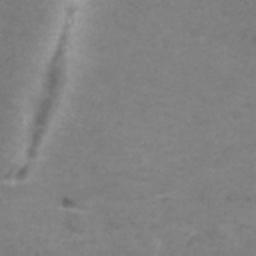Finishing roll printing: (15, 1, 76, 180), (62, 197, 75, 208)
